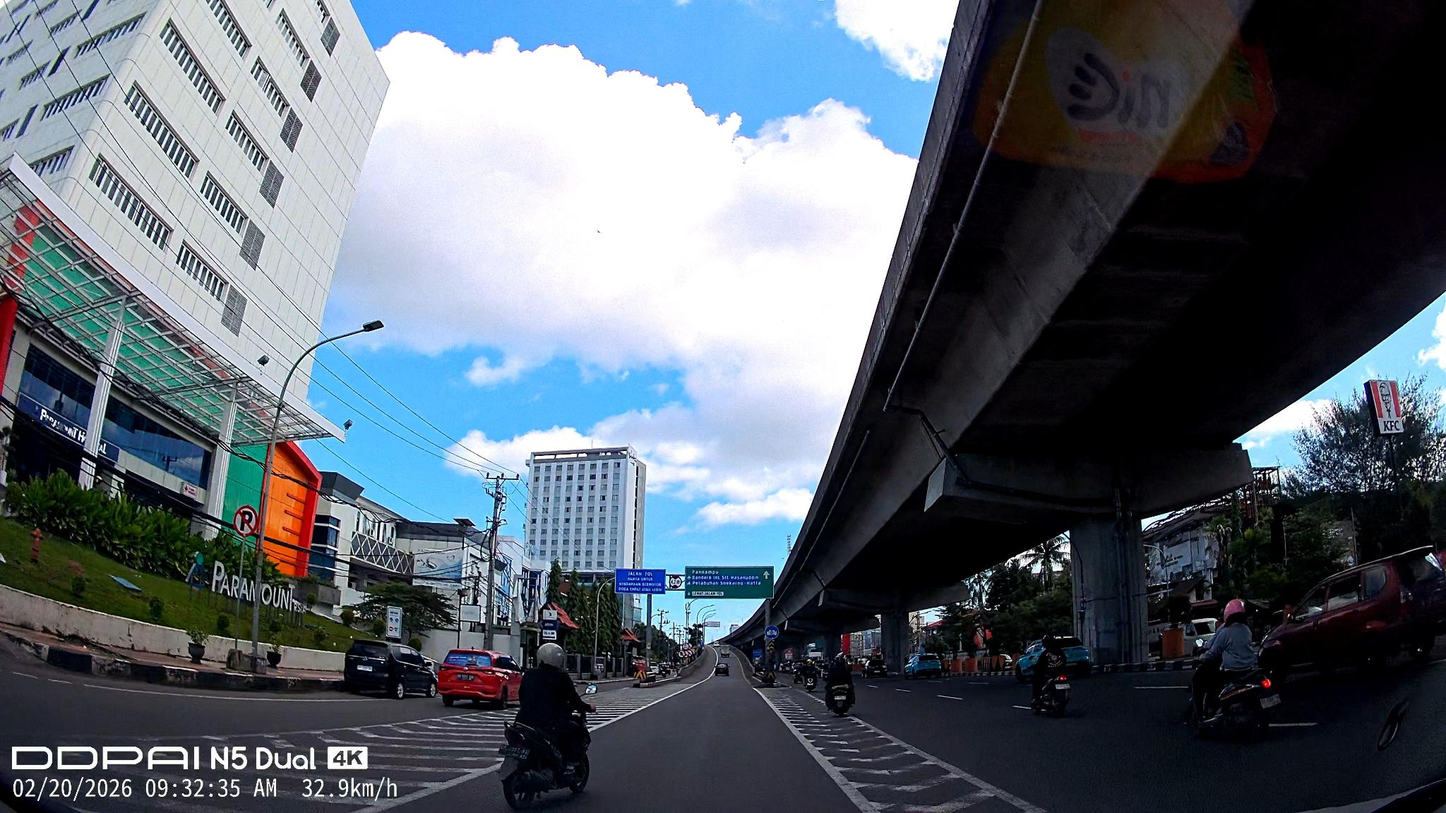rambu_teks: (685, 566, 773, 598), (615, 568, 666, 594)
